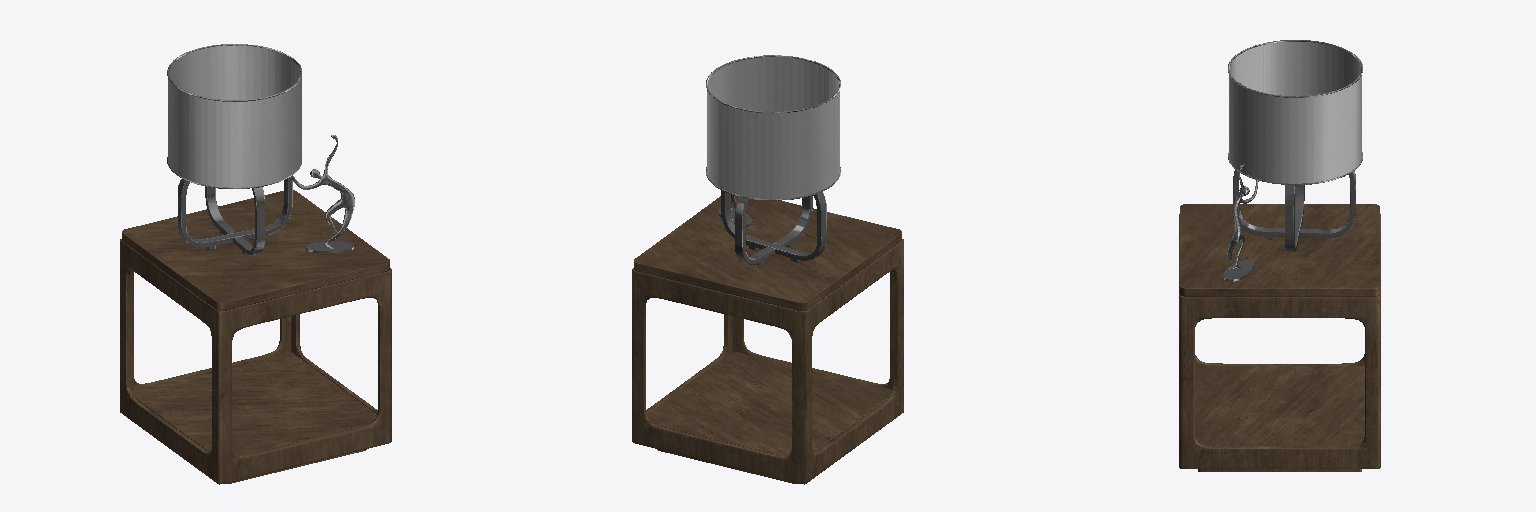
3 views of the same model, side by side, from view 1: azimuth 30°, elevation 25°; view 2: azimuth 150°, elevation 25°; view 3: azimuth 270°, elevation 25° (orthographic).
Parts seen in each view (by area): view 1: solid_002, glass_001, solid_003; view 2: solid_002, glass_001, solid_003; view 3: solid_002, glass_001, solid_003.
Boxes of the visible parts, <box> form: solid_002: <box>120,190,391,484</box>; glass_001: <box>168,45,301,187</box>; solid_003: <box>167,44,354,255</box>; solid_002: <box>632,196,903,484</box>; glass_001: <box>707,57,839,198</box>; solid_003: <box>706,55,840,264</box>; solid_002: <box>1179,204,1380,471</box>; glass_001: <box>1229,42,1361,183</box>; solid_003: <box>1224,40,1362,281</box>.
Size of the model in its own units: 0.8048 by 1.6 by 0.8048.
Materials: 1 (1 with a texture image).